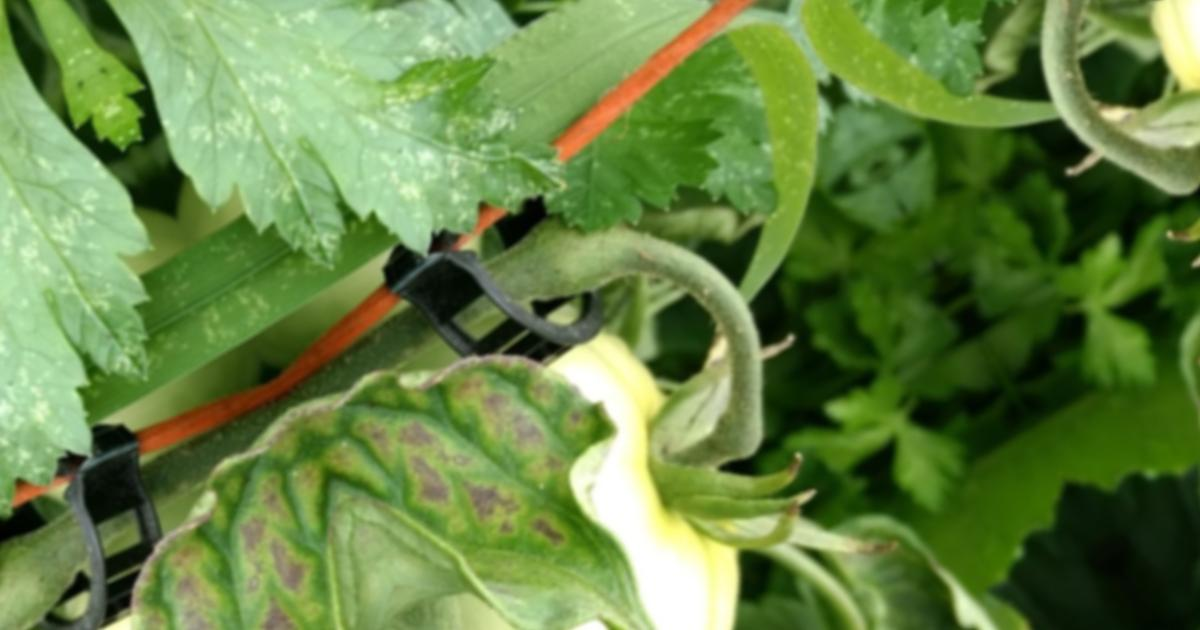Tomato leaf mosaic virus: (61, 0, 571, 348)
